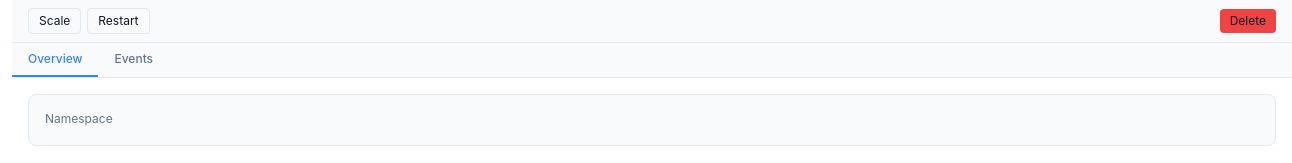
Test: ResourceDetail › switches to Events panel on tab click
The width and height of the screenshot is (1292, 163).
Click the button "Events".
click(134, 59)  # box top-left (98, 43), bottom-right (169, 75)
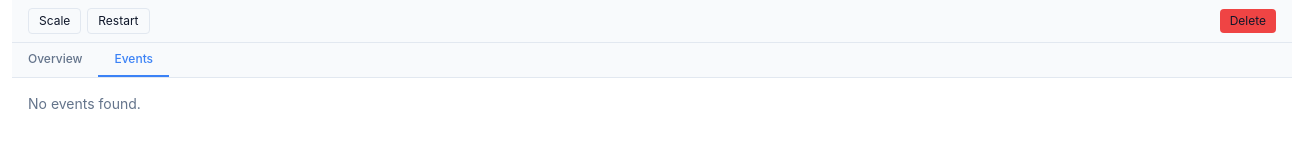
Expected: the text "No events found." is shown, top-left (28, 95), bottom-right (141, 112)
